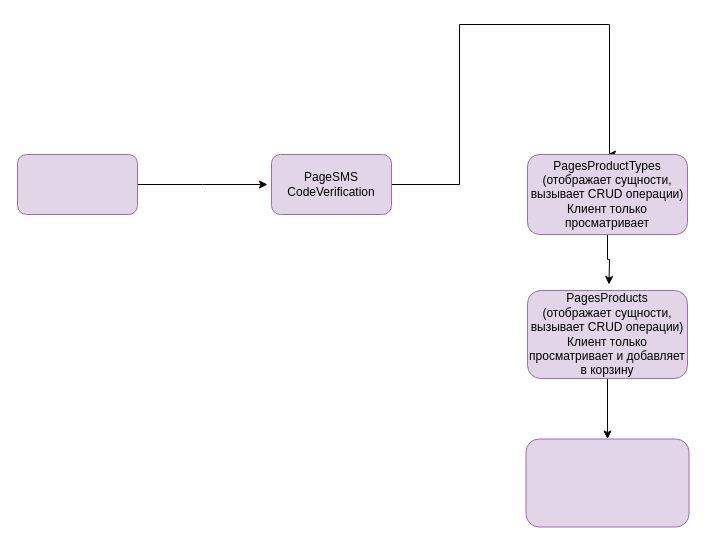
Image size: 707x545. Some labels were removed from this diagram. Here are the shapes that lost their labels. From the top down, the centre of each, then its label:
the point at 77,184: PageLogin
the point at 607,482: PageOrderClient
